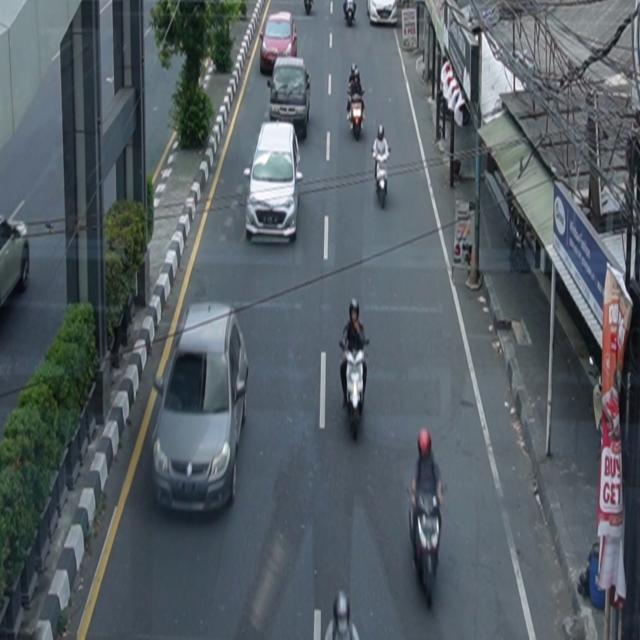car: (152, 302, 250, 516), (244, 121, 304, 245), (268, 57, 312, 140), (1, 215, 31, 310), (260, 12, 299, 76), (367, 1, 398, 26)
